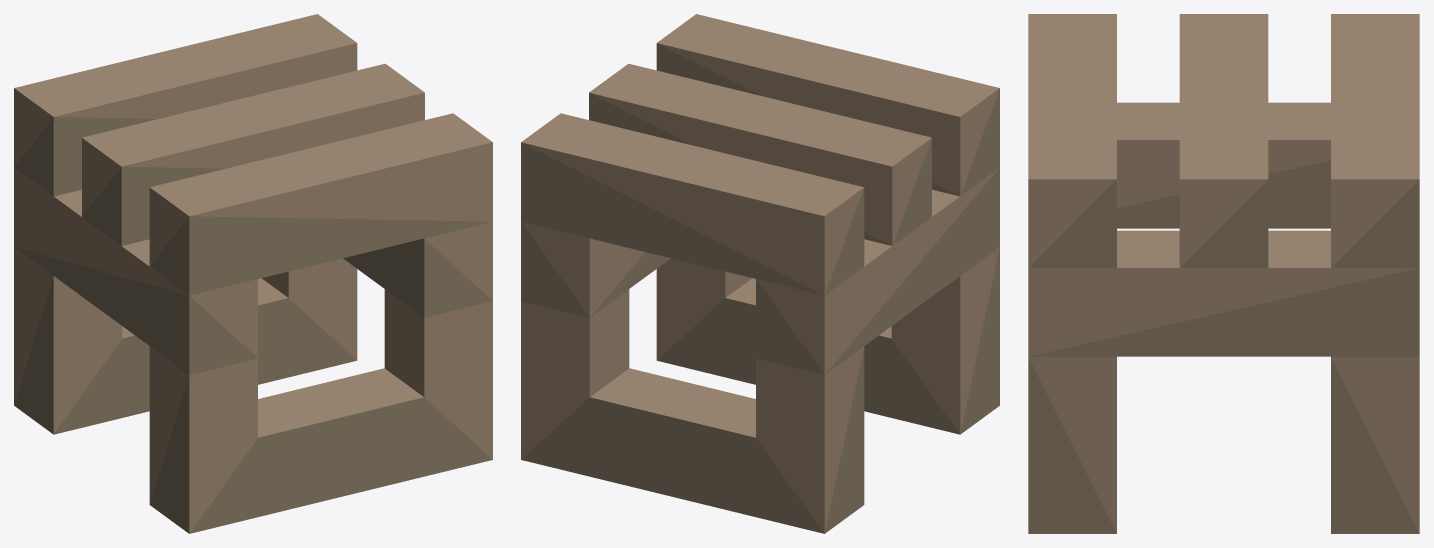
File: euro-pallet.glb
3 renders of one model, left to right at view 1: azimuth 30°, elevation 25°; view 2: azimuth 150°, elevation 25°; view 3: azimuth 270°, elevation 25°, orthographic. The views are drawn at different scales.
Bounding box in the file's own units: 1 × 1 × 1.
